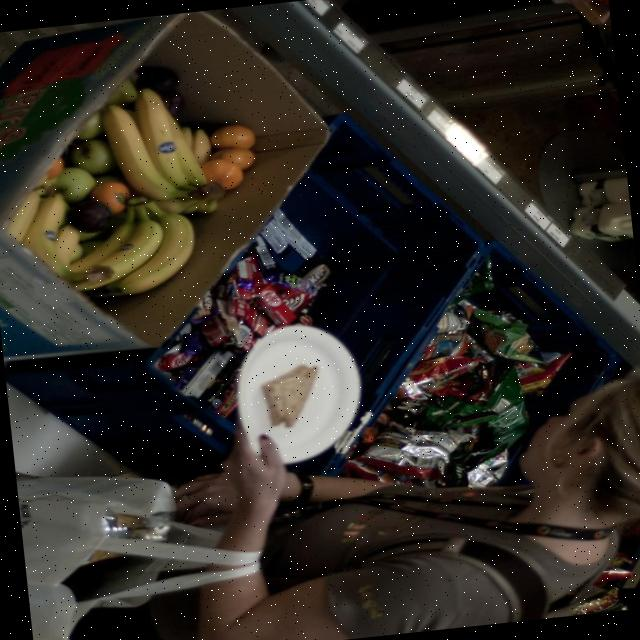banana: (99, 104, 175, 201), (106, 214, 193, 295)
